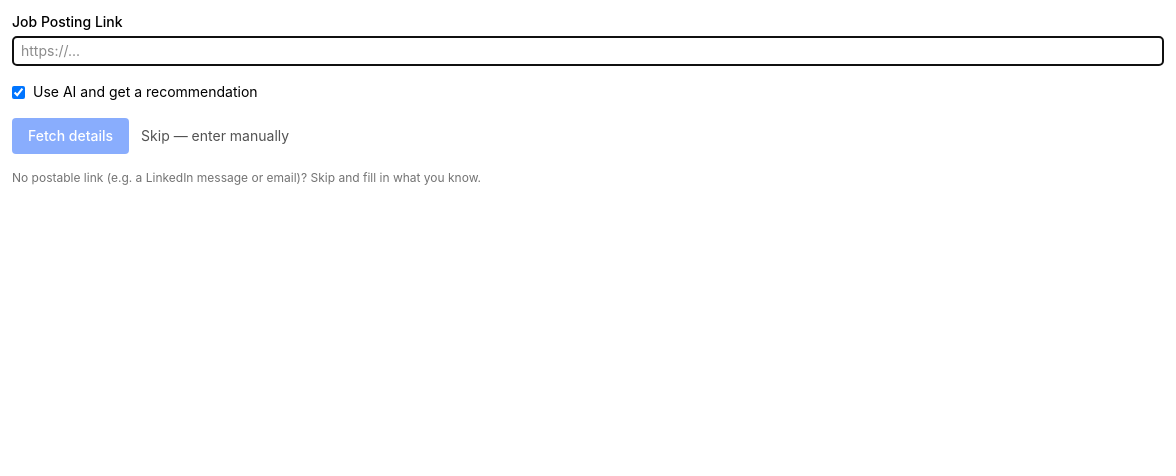
AddJobForm › AI recommendation › shows an APPLY banner after a successful scrape and match
In the field labelled "Job Posting Link": [588, 51] box [12,36,1164,66], type "https://acme.com/jobs/1"
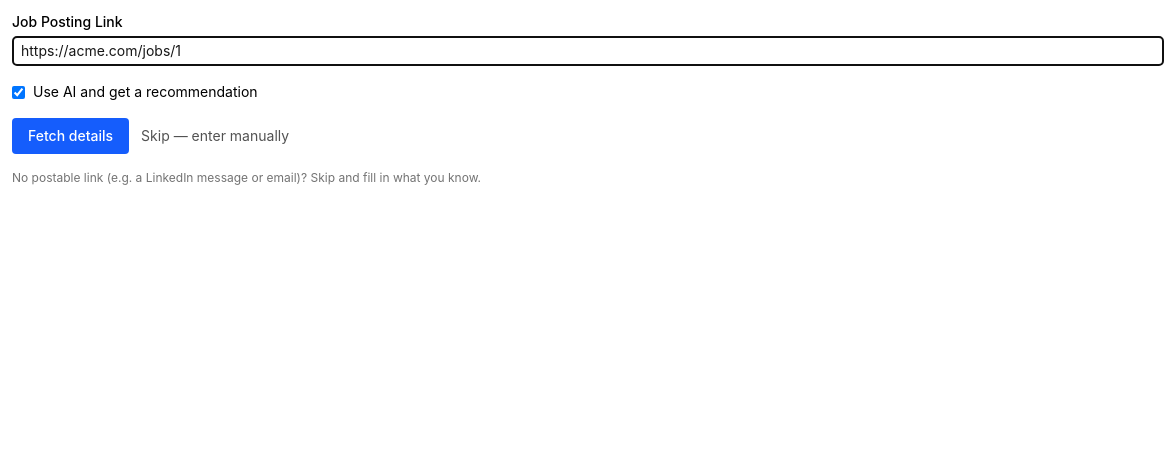
Click the button "Fetch details": [71, 136] box [12,118,129,154]
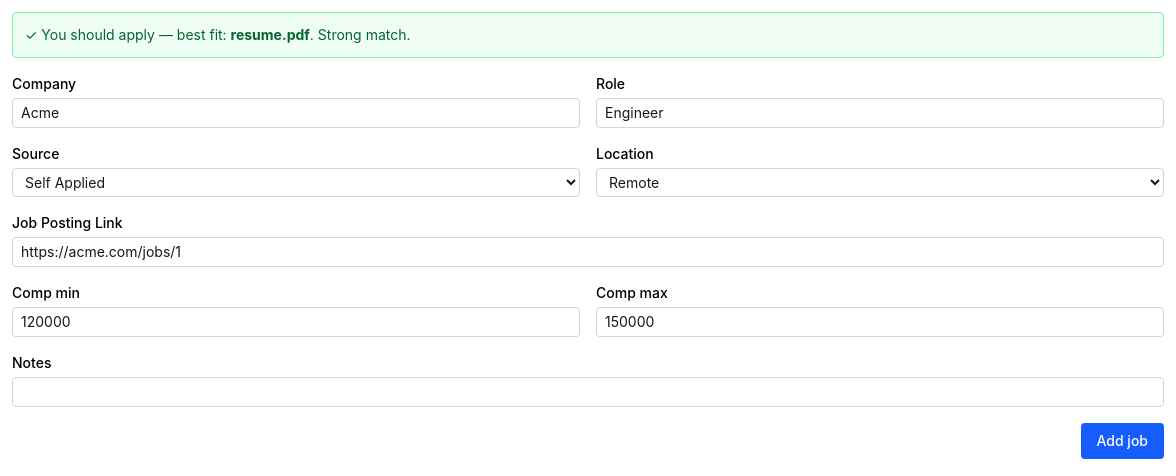
Check: the button "Add job" is enabled, box [1080,423,1164,459]
Check: the text "✓ You should apply — best fit: resume.pdf. Strong match." is shown, box [12,12,1164,58]
Check: the text "resume.pdf" is shown, box [231,26,310,43]
